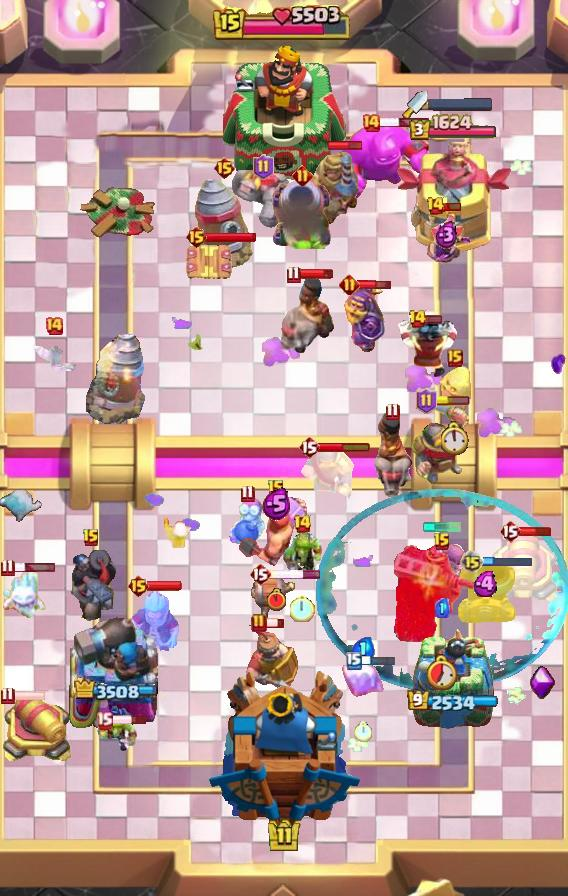archer-evolution: (419, 210, 474, 276)
bar: (318, 441, 371, 453), (482, 556, 534, 568), (205, 231, 257, 243), (269, 569, 322, 580), (4, 562, 56, 573), (378, 117, 430, 128), (360, 654, 397, 667), (357, 278, 392, 291), (111, 714, 148, 726), (9, 690, 46, 702), (147, 580, 183, 592), (298, 268, 334, 280), (328, 140, 363, 151), (518, 526, 552, 537), (434, 396, 470, 406), (265, 617, 285, 629), (442, 201, 462, 212), (424, 314, 443, 325)
bar-level: (460, 550, 484, 574), (127, 574, 150, 598), (185, 225, 208, 249), (213, 156, 236, 180), (416, 388, 437, 414), (253, 154, 274, 180), (249, 562, 271, 586), (499, 519, 521, 543), (298, 435, 320, 459), (339, 274, 360, 295), (292, 165, 313, 186), (44, 316, 64, 336), (361, 113, 381, 133), (293, 514, 312, 534), (408, 309, 427, 329), (426, 196, 445, 216), (433, 532, 451, 552), (82, 528, 100, 548), (267, 479, 285, 499), (96, 711, 113, 730), (251, 613, 267, 633), (346, 652, 362, 670), (447, 349, 463, 367), (0, 686, 15, 705), (0, 558, 15, 577), (240, 484, 255, 503), (385, 402, 400, 421), (286, 265, 301, 284)
bat-evolution: (29, 341, 79, 371)
bomber: (227, 497, 267, 545)
cannoneer-tower: (68, 611, 160, 731)
clock: (427, 654, 458, 690), (441, 421, 470, 455), (290, 594, 315, 622), (267, 588, 286, 611), (354, 721, 372, 742)
dagger-duchess-tower: (394, 142, 512, 256)
dagger-duchess-tower-bar: (428, 98, 492, 111)
electro-wizard: (394, 319, 464, 379)
elixir: (262, 487, 291, 521), (473, 571, 500, 597), (435, 220, 458, 249), (352, 637, 375, 662), (435, 598, 450, 618)
evolution-symbol: (530, 665, 556, 699)
goblin: (280, 532, 324, 582), (96, 718, 138, 754)
golemite: (231, 169, 295, 229)
heal-spirit: (437, 364, 473, 414)
ice-spirit: (0, 571, 48, 619), (0, 489, 44, 527)
ice-spirit-evolution: (340, 659, 386, 701)
ice-wizard: (123, 588, 181, 652)
king-tower: (207, 669, 362, 826), (223, 44, 346, 181)
king-tower-bar: (213, 5, 355, 43)
knight: (411, 403, 469, 486), (300, 443, 354, 499)
knight-evolution: (343, 283, 385, 353)
lumberjack: (239, 489, 313, 571)
mortar: (456, 559, 516, 623)
mortar-evolution: (270, 179, 334, 249)
queen-tower: (411, 627, 495, 731)
ram-rider: (275, 278, 335, 354), (370, 411, 414, 497)
royal-recruit: (245, 621, 299, 691)
skeleton: (162, 516, 192, 548)
skeleton-evolution: (441, 541, 468, 579)
tesla: (183, 242, 233, 282)
tower-bar: (408, 114, 498, 142), (407, 690, 499, 714), (72, 678, 157, 702)
wall-breaker: (248, 572, 296, 626)
